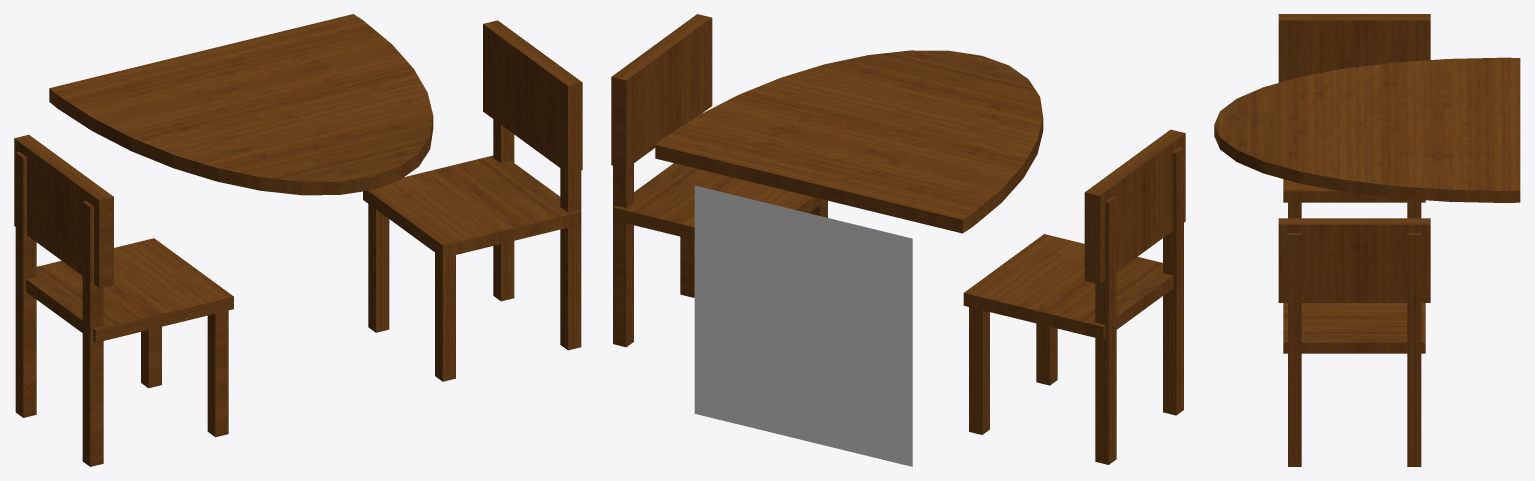
The model's file is tablefortwo.gltf.
The picture shows the model from 3 angles, left to right: view 1: azimuth 30°, elevation 25°; view 2: azimuth 150°, elevation 25°; view 3: azimuth 270°, elevation 25°; orthographic projection. The views are drawn at different scales.
Parts seen in each view (by area): view 1: Cylinder, Cube.012, Cube.001, Cube.007, Cube.006, Cube.004, Cube.003, Cube.010, Cube.005, Cube.008, Cube.011, Cube.009 (+1 smaller); view 2: snap, Cylinder, Cube.001, Cube.007, Cube.006, Cube.012, Cube.003, Cube.004, Cube.009, Cube.002, Cube.005, Cube.010; view 3: Cylinder, Cube.007, Cube.006, Cube.012, Cube.009, Cube.010, Cube.001.
Boxes of the visible parts, box(x1,y1,x2,y2) form: Cylinder: box(49, 14, 433, 195); Cube.012: box(363, 155, 580, 257); Cube.001: box(26, 238, 233, 342); Cube.007: box(483, 20, 582, 173); Cube.006: box(14, 134, 113, 287); Cube.004: box(82, 201, 103, 466); Cube.003: box(15, 152, 36, 417); Cube.010: box(560, 168, 581, 350); Cube.005: box(207, 310, 228, 437); Cube.008: box(368, 204, 389, 332); Cube.011: box(435, 253, 455, 381); Cube.009: box(493, 119, 514, 301); snap: box(694, 185, 912, 466); Cylinder: box(655, 50, 1043, 233); Cube.001: box(963, 234, 1173, 339); Cube.007: box(611, 14, 712, 168); Cube.006: box(1084, 129, 1185, 284); Cube.012: box(613, 163, 825, 239); Cube.003: box(1095, 196, 1116, 464); Cube.004: box(1163, 147, 1183, 415); Cube.009: box(613, 163, 633, 347); Cube.002: box(969, 307, 989, 434); Cube.005: box(1036, 323, 1057, 385); Cube.010: box(680, 236, 694, 297); Cylinder: box(1214, 57, 1520, 202); Cube.007: box(1278, 218, 1430, 302); Cube.006: box(1278, 14, 1430, 82); Cube.012: box(1283, 303, 1425, 353); Cube.009: box(1407, 233, 1421, 466); Cube.010: box(1288, 233, 1301, 466); Cube.001: box(1283, 179, 1425, 202).
Size of the model in its own units: 2.95 by 1.55 by 1.79.
1 material, 1 textured.
